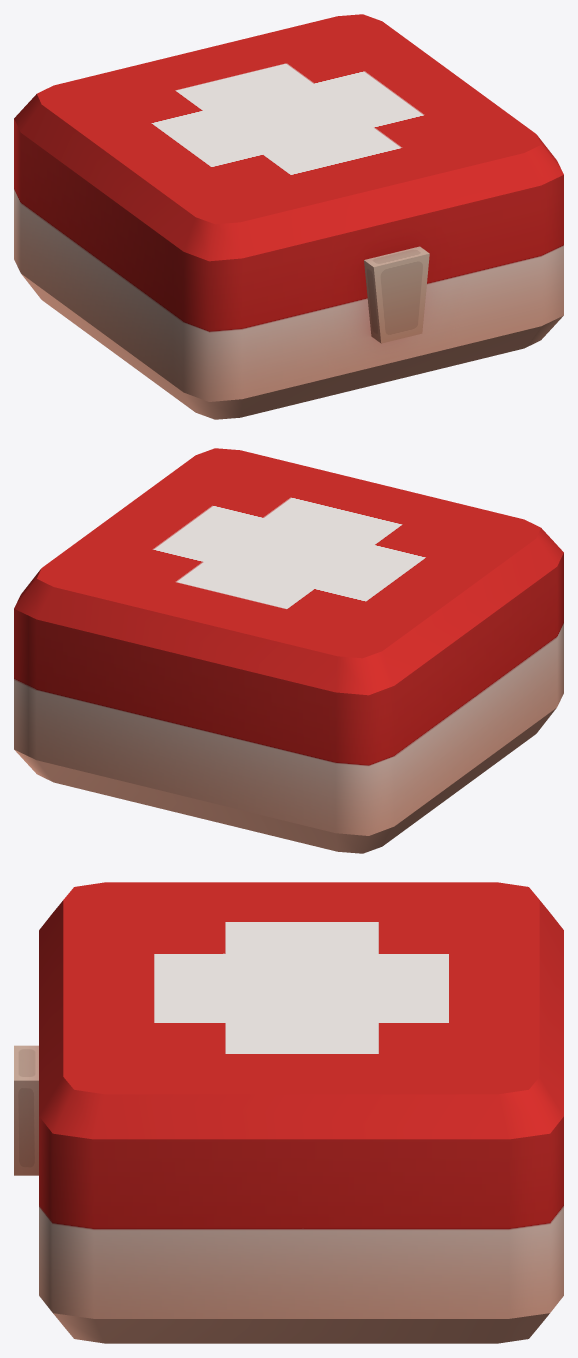
The model's file is FirstAid.FBX.
3 renders of one model, top to bottom at view 1: azimuth 30°, elevation 25°; view 2: azimuth 150°, elevation 25°; view 3: azimuth 270°, elevation 25°, orthographic. The views are drawn at different scales.
Parts seen in each view (by area): view 1: FirstAid; view 2: FirstAid; view 3: FirstAid.
Part boxes in pixels (box(x1,y1,x2,y2)): FirstAid: box(14, 14, 563, 419); FirstAid: box(14, 448, 563, 853); FirstAid: box(14, 882, 563, 1343).
Size of the model in its own units: 100 by 50 by 100.
